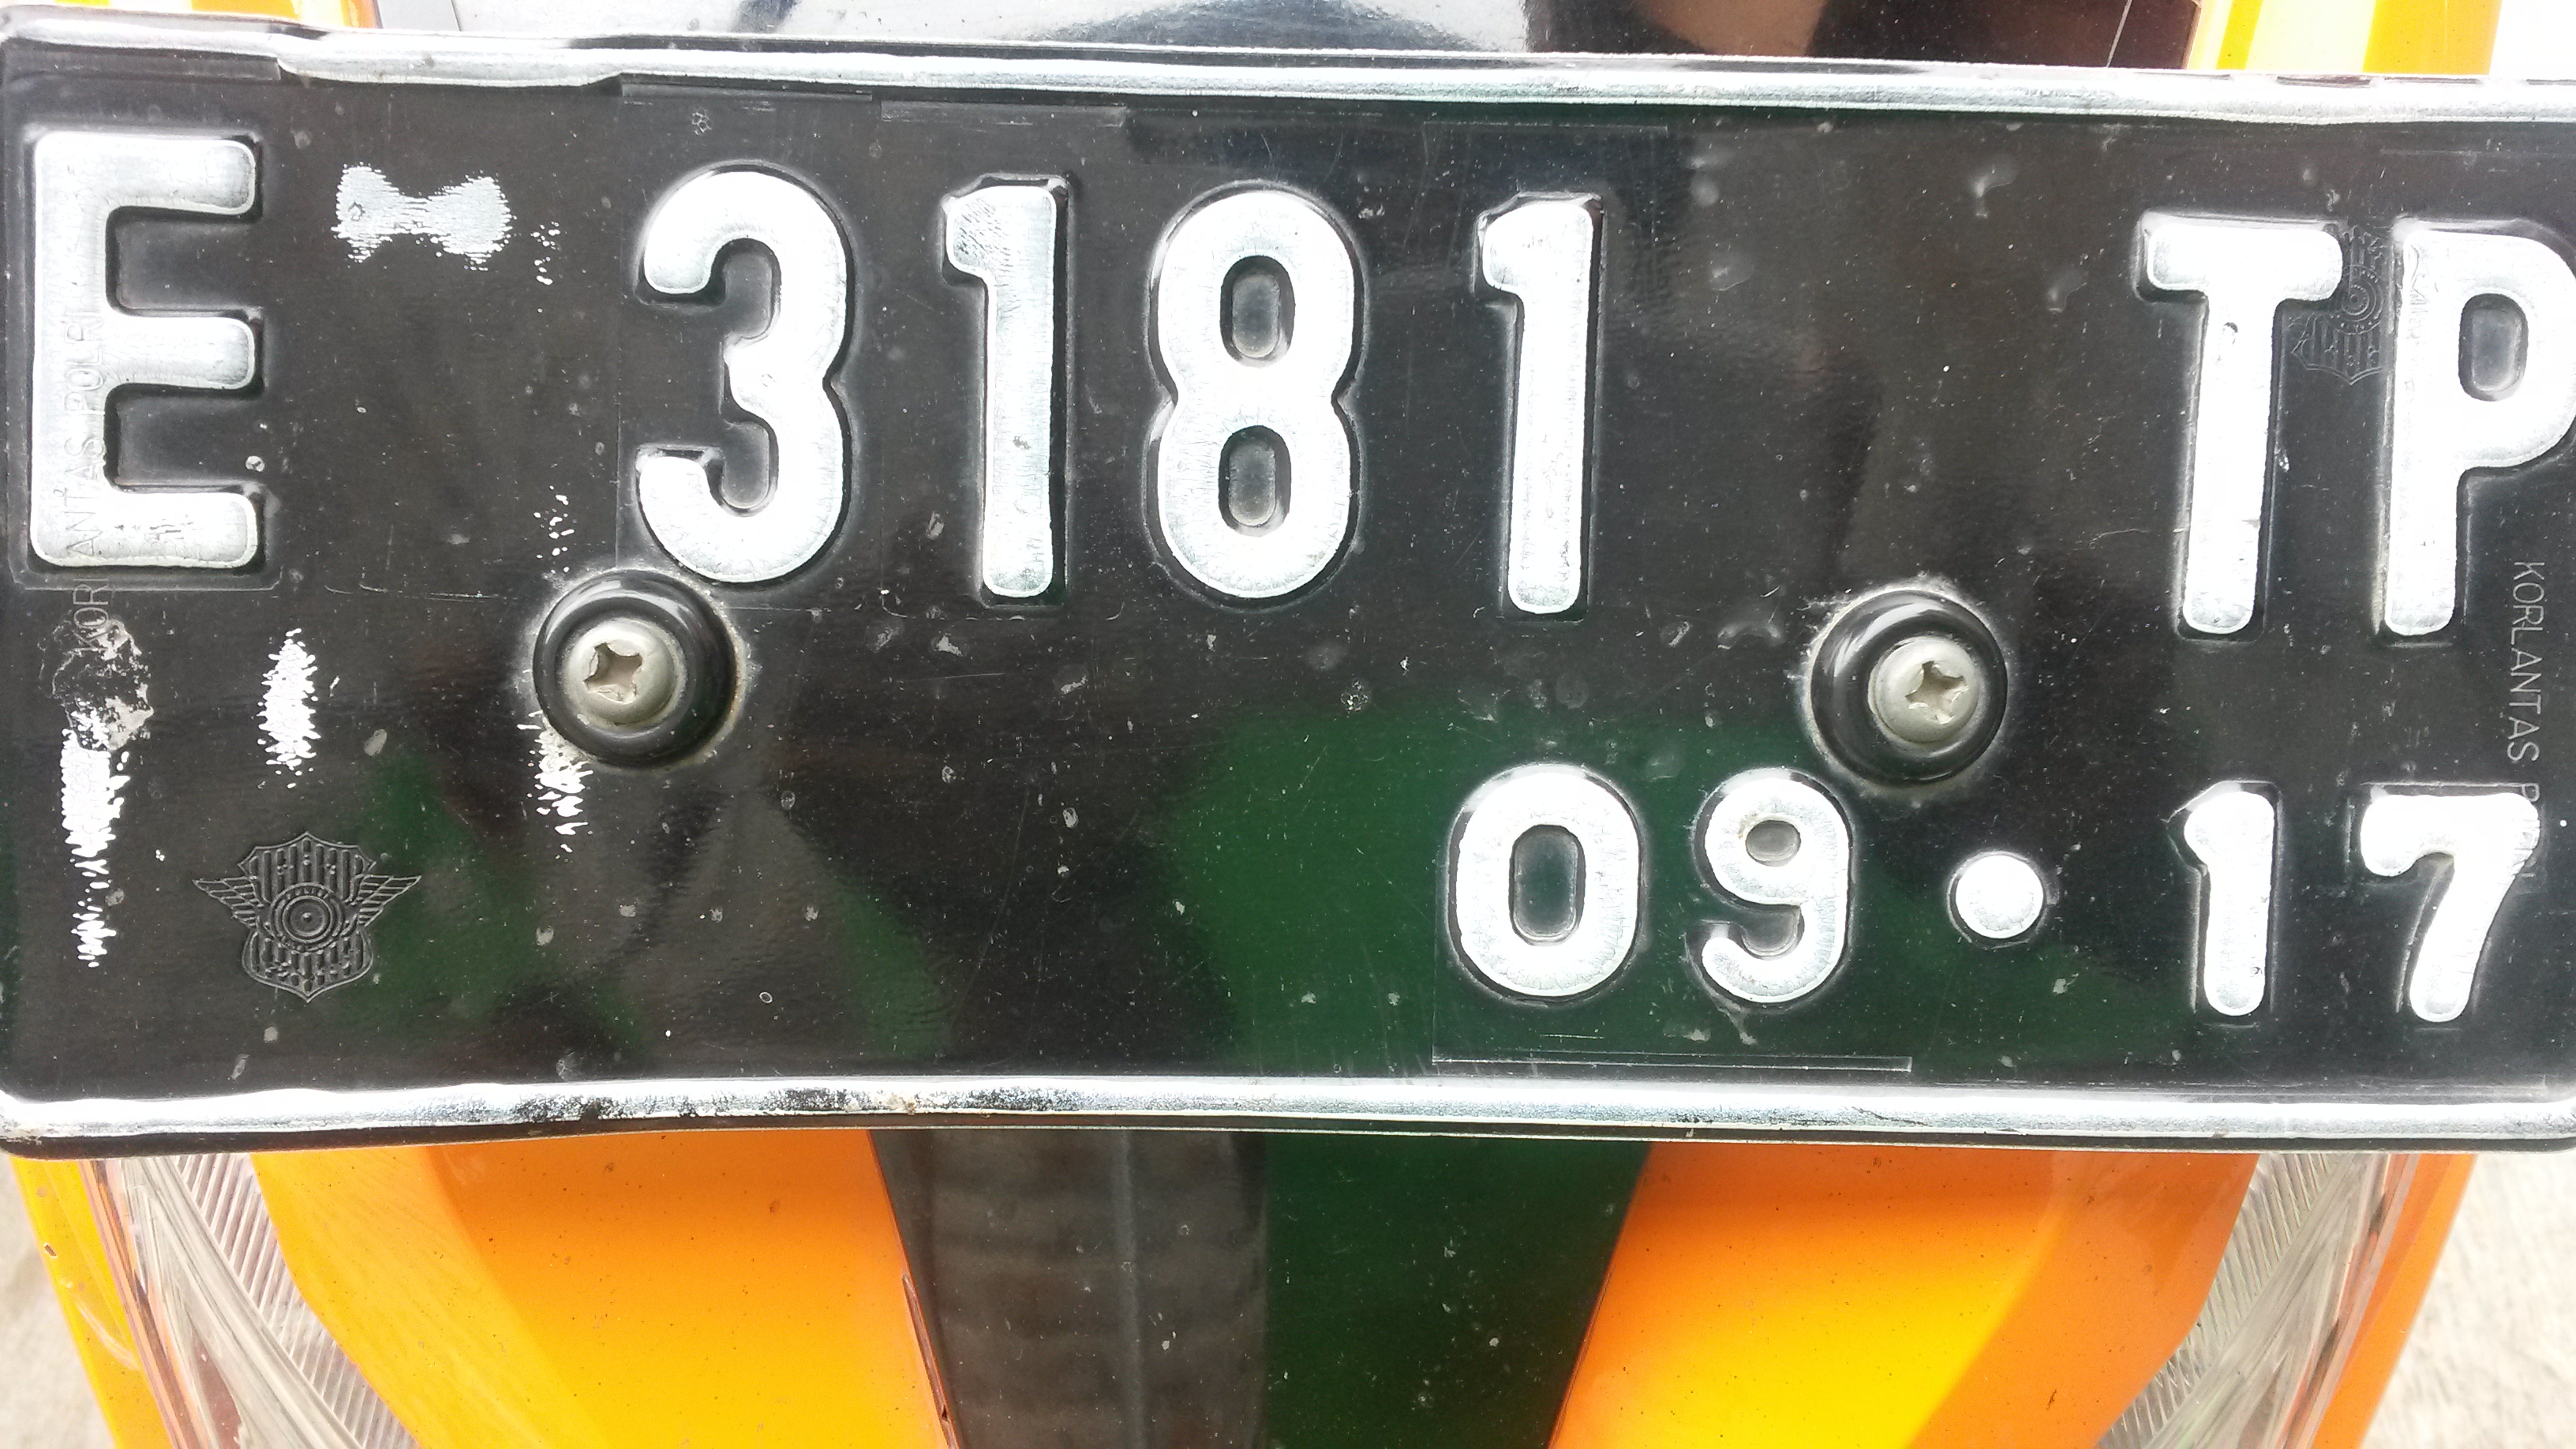plate: (9, 8, 2576, 1163)
